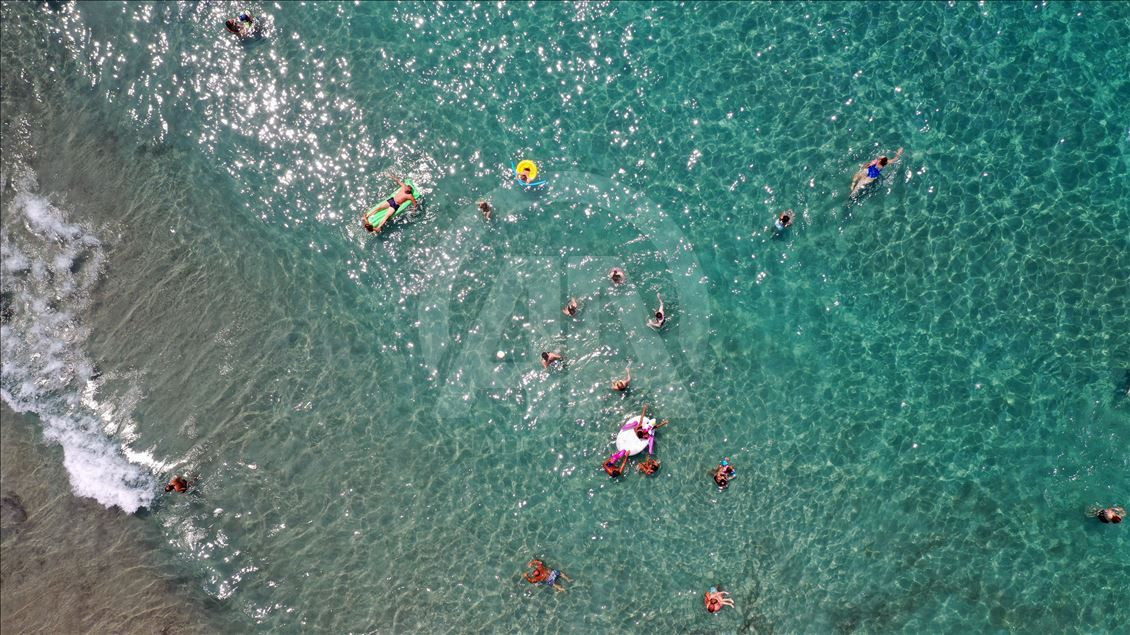people: (358, 174, 435, 239), (846, 145, 921, 202), (516, 557, 572, 594), (547, 294, 609, 326), (1085, 499, 1130, 535), (643, 295, 685, 331), (698, 582, 742, 615), (599, 367, 643, 399), (704, 453, 741, 491), (597, 261, 639, 291), (465, 197, 511, 224), (765, 210, 807, 238), (160, 471, 200, 499), (631, 411, 671, 439), (217, 14, 251, 41), (233, 5, 269, 30), (533, 347, 570, 368), (633, 457, 662, 477), (599, 461, 632, 478)
